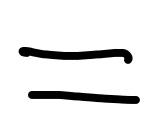eqv: (14, 44, 141, 104)
